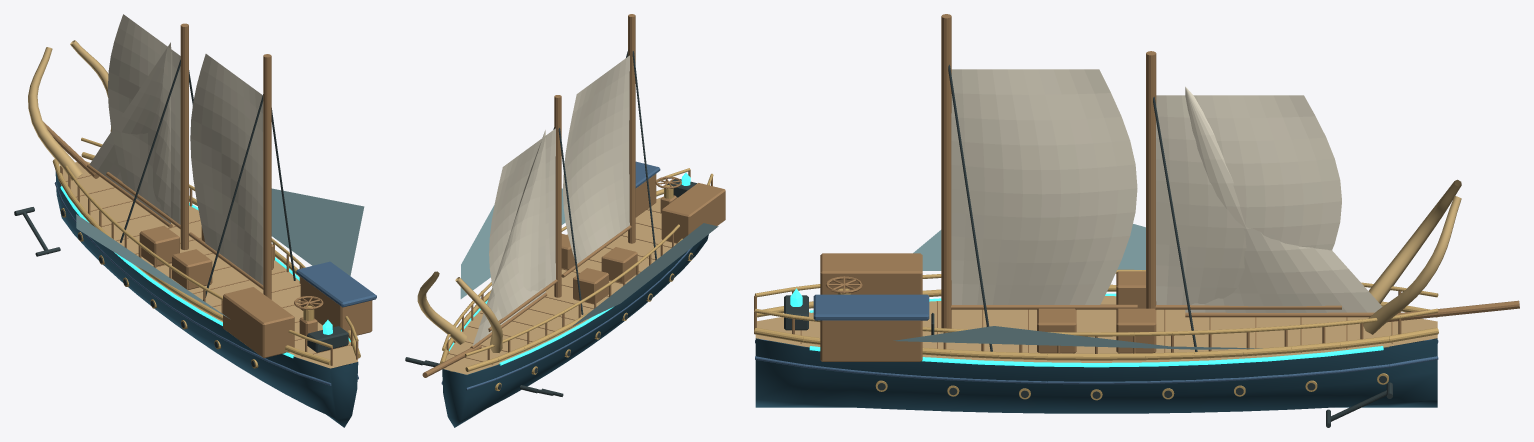
File: premium_royal_schooner.glb
3 renders of one model, left to right at view 1: azimuth 30°, elevation 25°; view 2: azimuth 150°, elevation 25°; view 3: azimuth 270°, elevation 25°, orthographic. The views are drawn at different scales.
Parts seen in each view (by area): view 1: premium_royal_schooner; view 2: premium_royal_schooner; view 3: premium_royal_schooner.
Boxes of the visible parts, x1,y1,x2,y2 form: premium_royal_schooner: [14, 14, 376, 427]; premium_royal_schooner: [405, 14, 725, 427]; premium_royal_schooner: [754, 14, 1519, 427].
Size of the model in its own units: 5.85 by 7.6 by 13.47.
